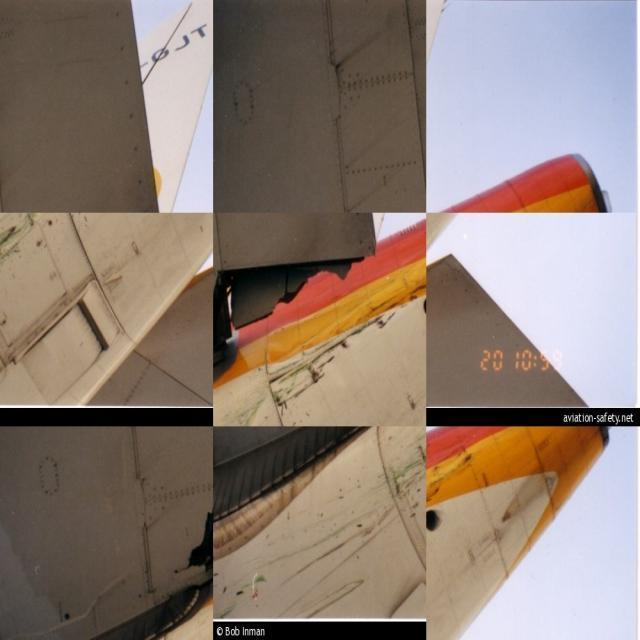crack: (173, 512, 213, 583)
